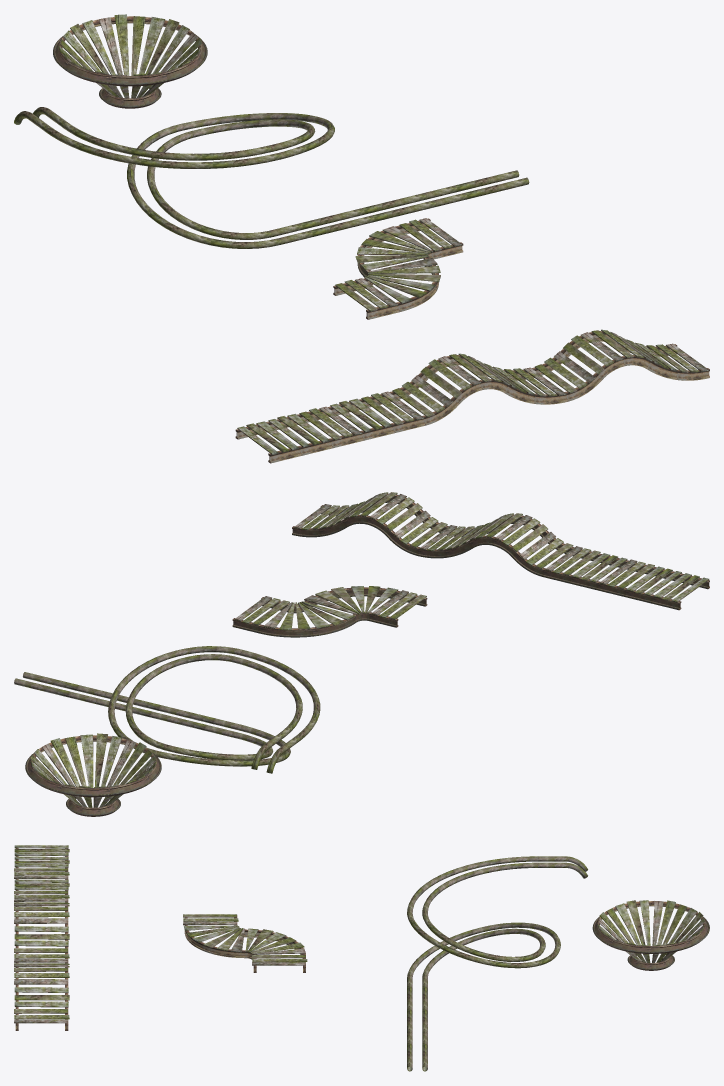
3 renders of one model, top to bottom at view 1: azimuth 30°, elevation 25°; view 2: azimuth 150°, elevation 25°; view 3: azimuth 270°, elevation 25°, orthographic. The views are drawn at different scales.
Parts seen in each view (by area): view 1: ramp.001, pipe, scope ramp, ramp; view 2: ramp.001, pipe, scope ramp, ramp; view 3: ramp.001, pipe, scope ramp, ramp.
Boxes of the visible parts, box(x1,y1,x2,y2) form: ramp.001: box(235, 329, 709, 463); pipe: box(14, 107, 529, 248); scope ramp: box(53, 14, 207, 108); ramp: box(333, 218, 463, 319); ramp.001: box(292, 492, 709, 610); pipe: box(14, 646, 320, 773); scope ramp: box(25, 733, 161, 816); ramp: box(232, 586, 427, 637); ramp.001: box(14, 845, 69, 1030); pipe: box(407, 856, 587, 1071); scope ramp: box(592, 900, 709, 970); ramp: box(183, 914, 307, 972).
Size of the model in its own units: 1672 by 285 by 2574.
